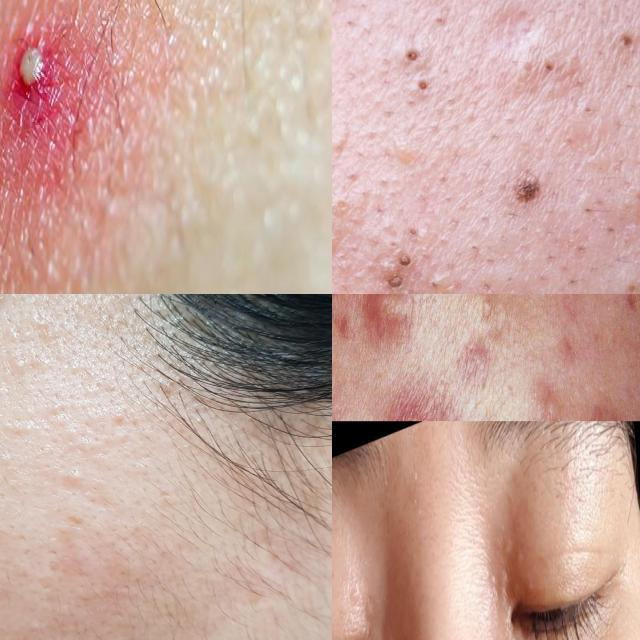comedone: (509, 163, 553, 205), (408, 75, 441, 98), (378, 270, 405, 294), (400, 47, 425, 67), (397, 246, 418, 268)
cystic: (332, 294, 430, 359)
flat_wart: (34, 402, 115, 492), (0, 300, 40, 395)
folliculitis: (0, 19, 60, 118)
milium: (512, 574, 524, 601)
syringoma: (346, 559, 388, 640), (492, 518, 522, 565)
